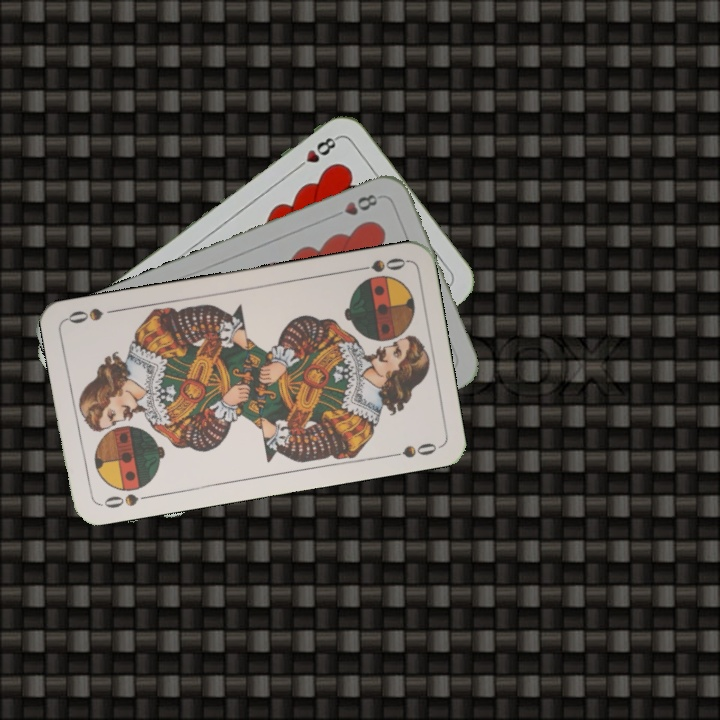H8: (290, 133, 341, 174), (327, 190, 380, 221)
SO: (96, 481, 155, 511), (350, 254, 409, 275)
